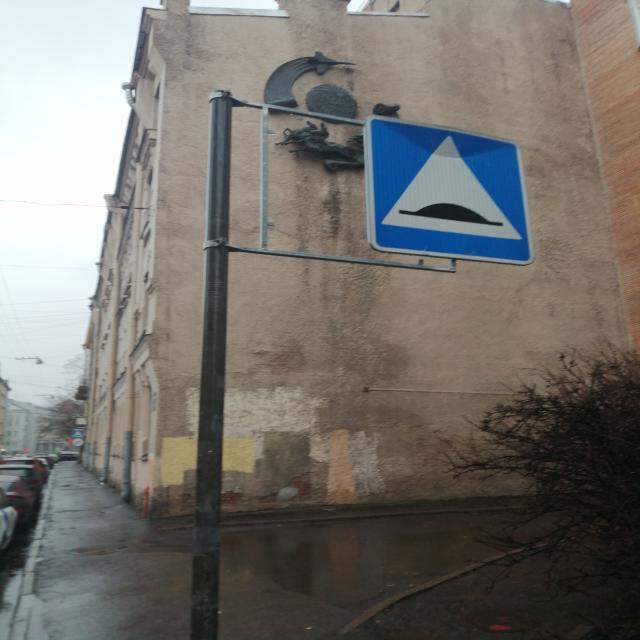road sign: (369, 119, 533, 264)
